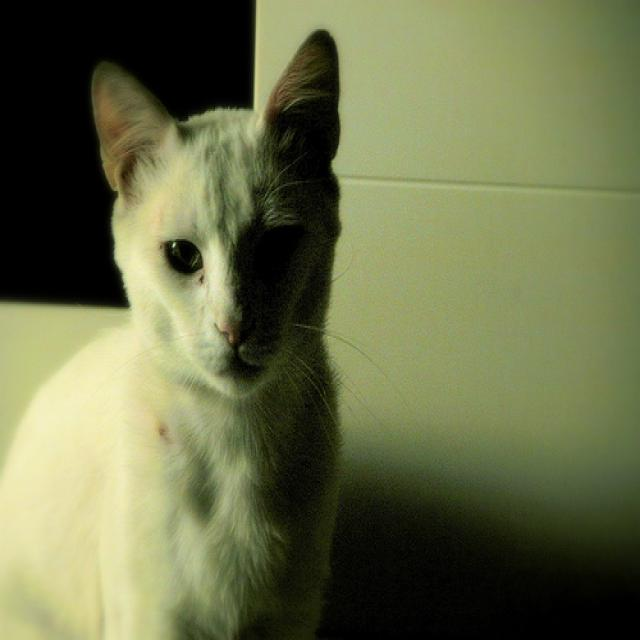cat: (1, 27, 357, 639)
